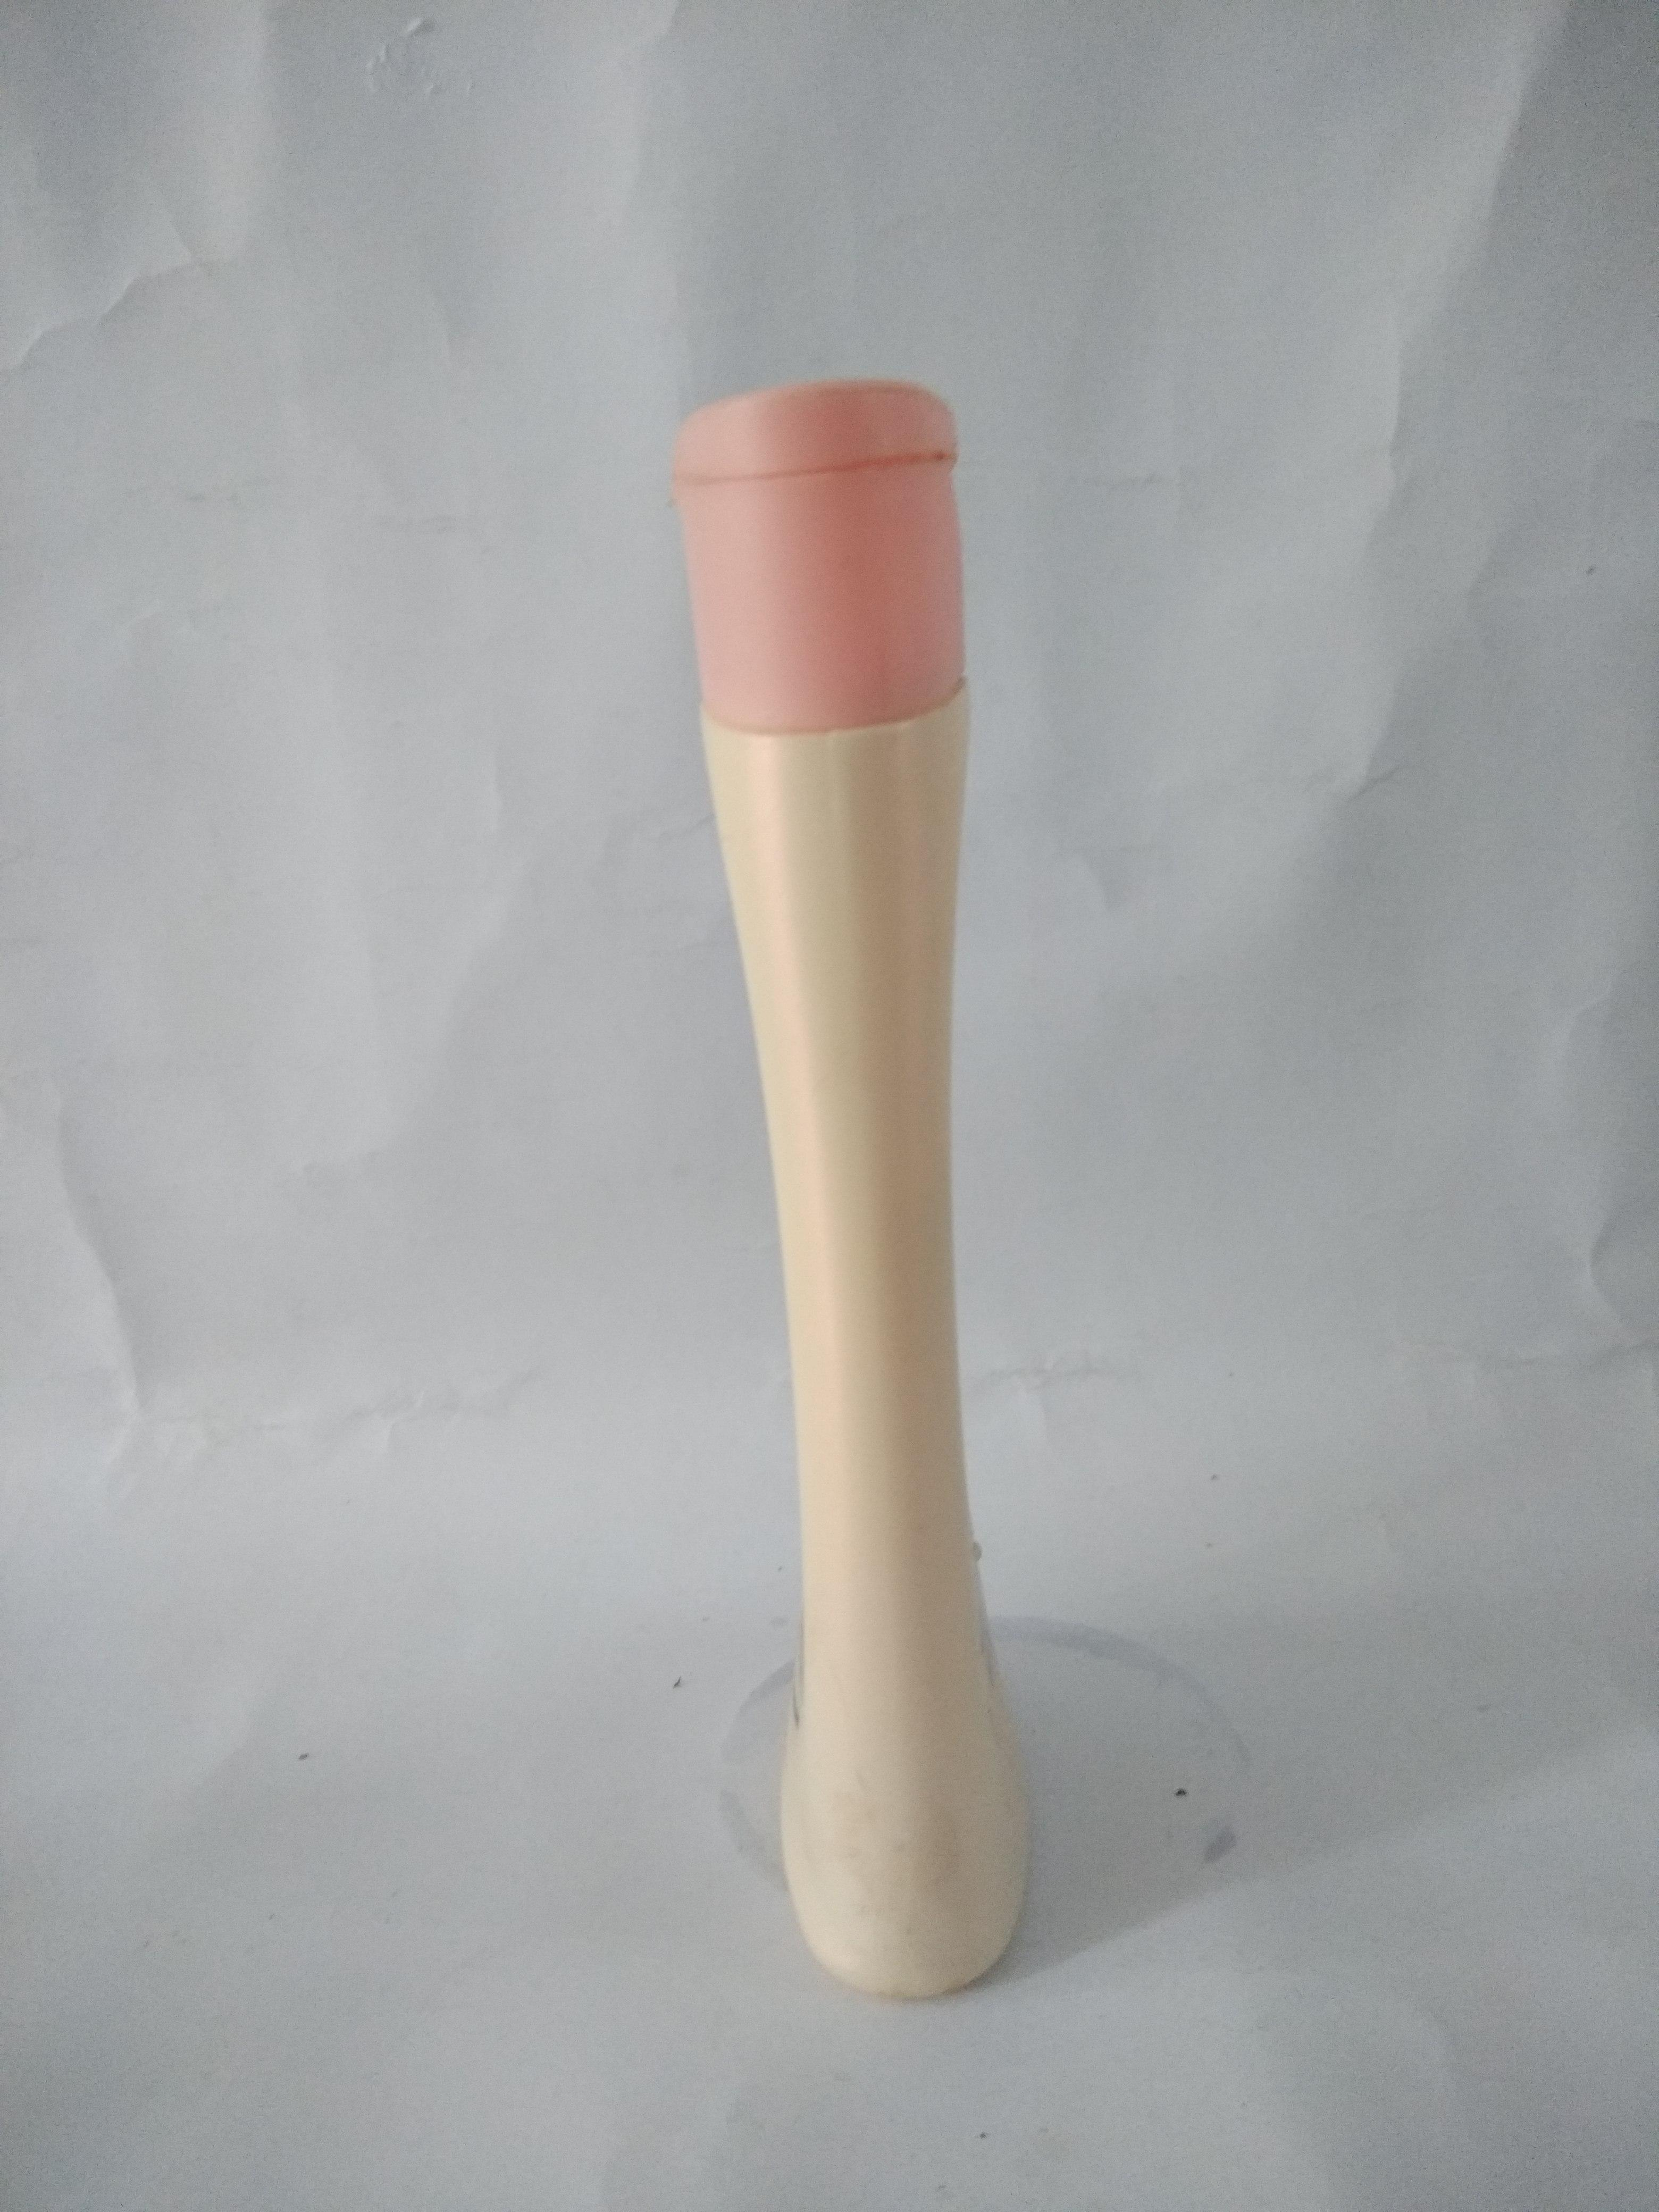HDPE: (464, 279, 1473, 2212)
